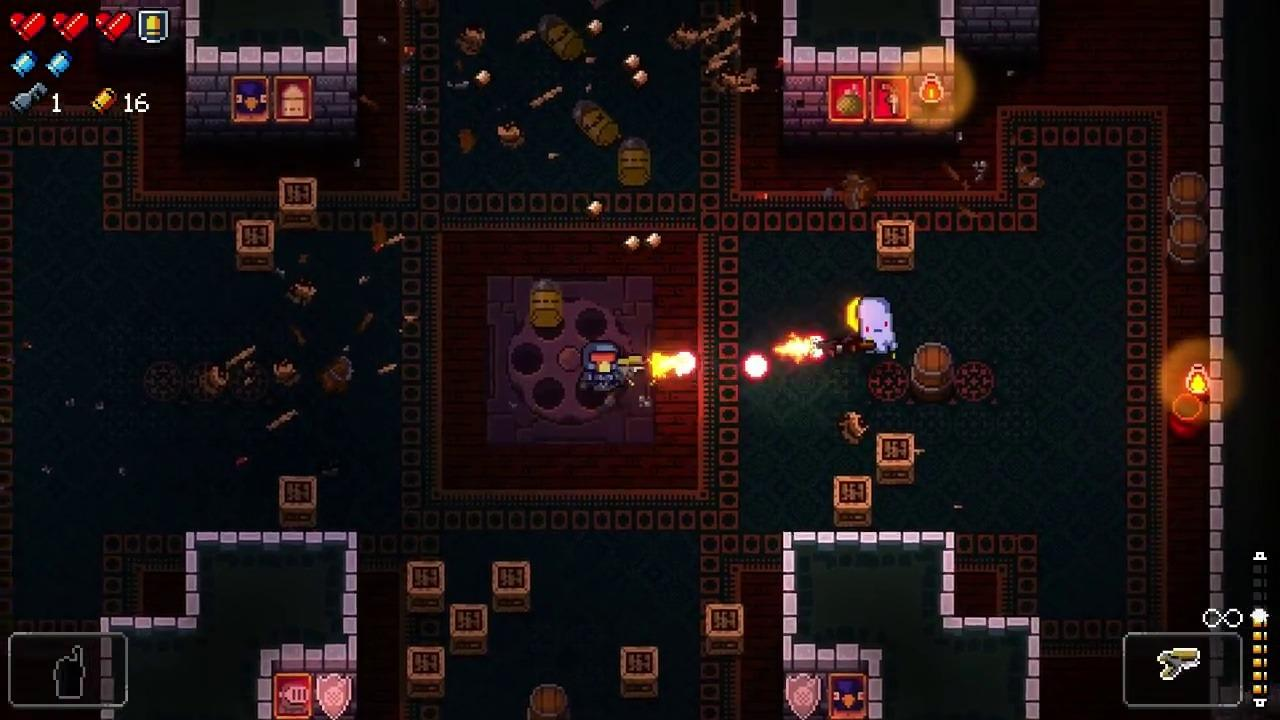bullet: (800, 329, 828, 363), (671, 347, 700, 377), (743, 350, 771, 380)
dead_bullet_kin: (573, 98, 619, 146), (539, 15, 587, 60), (618, 134, 652, 187), (529, 277, 563, 325)
hollowpoint: (856, 296, 899, 357)
player: (582, 341, 621, 392)
teleporter: (486, 275, 656, 443)
